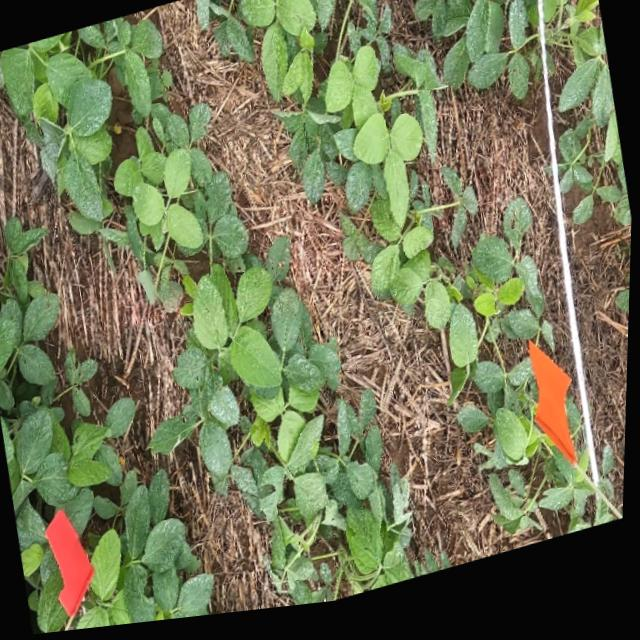soy_plant: (0, 19, 418, 612), (197, 0, 622, 545), (156, 351, 339, 612), (0, 221, 137, 526), (541, 0, 633, 239), (76, 476, 216, 632), (541, 0, 622, 181), (415, 0, 542, 111), (419, 0, 539, 95), (620, 301, 632, 323)
